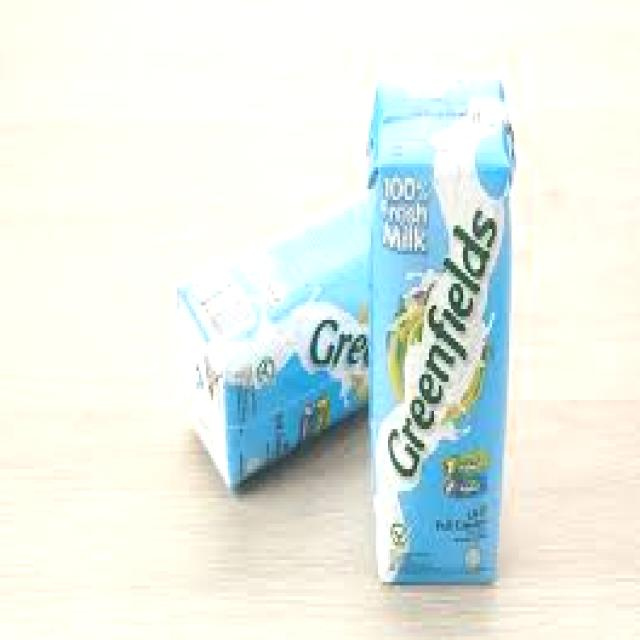susu_kotak: (177, 188, 504, 457), (369, 69, 507, 584)
